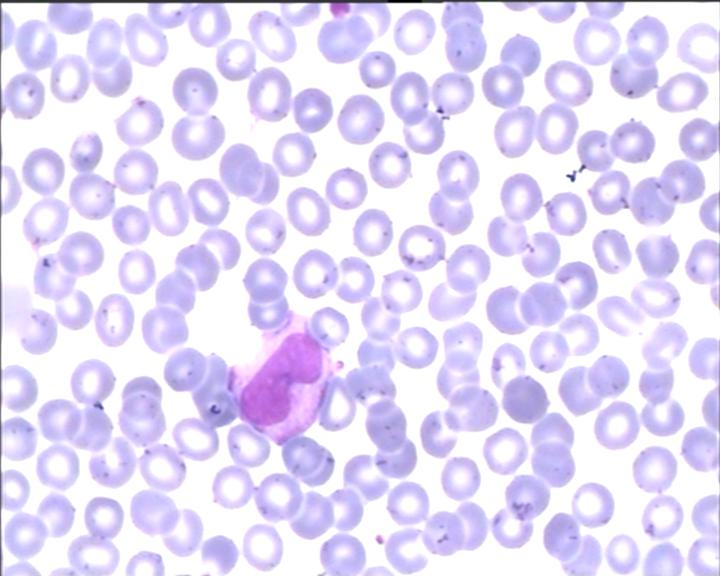mono: (225, 310, 345, 447)
